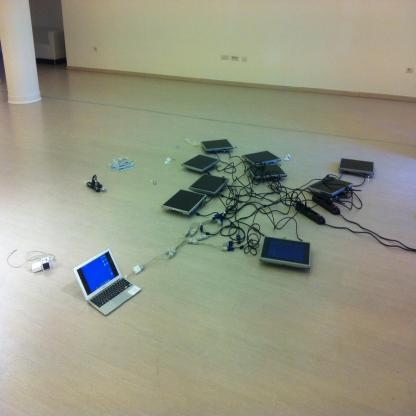board: (72, 233, 138, 318)
